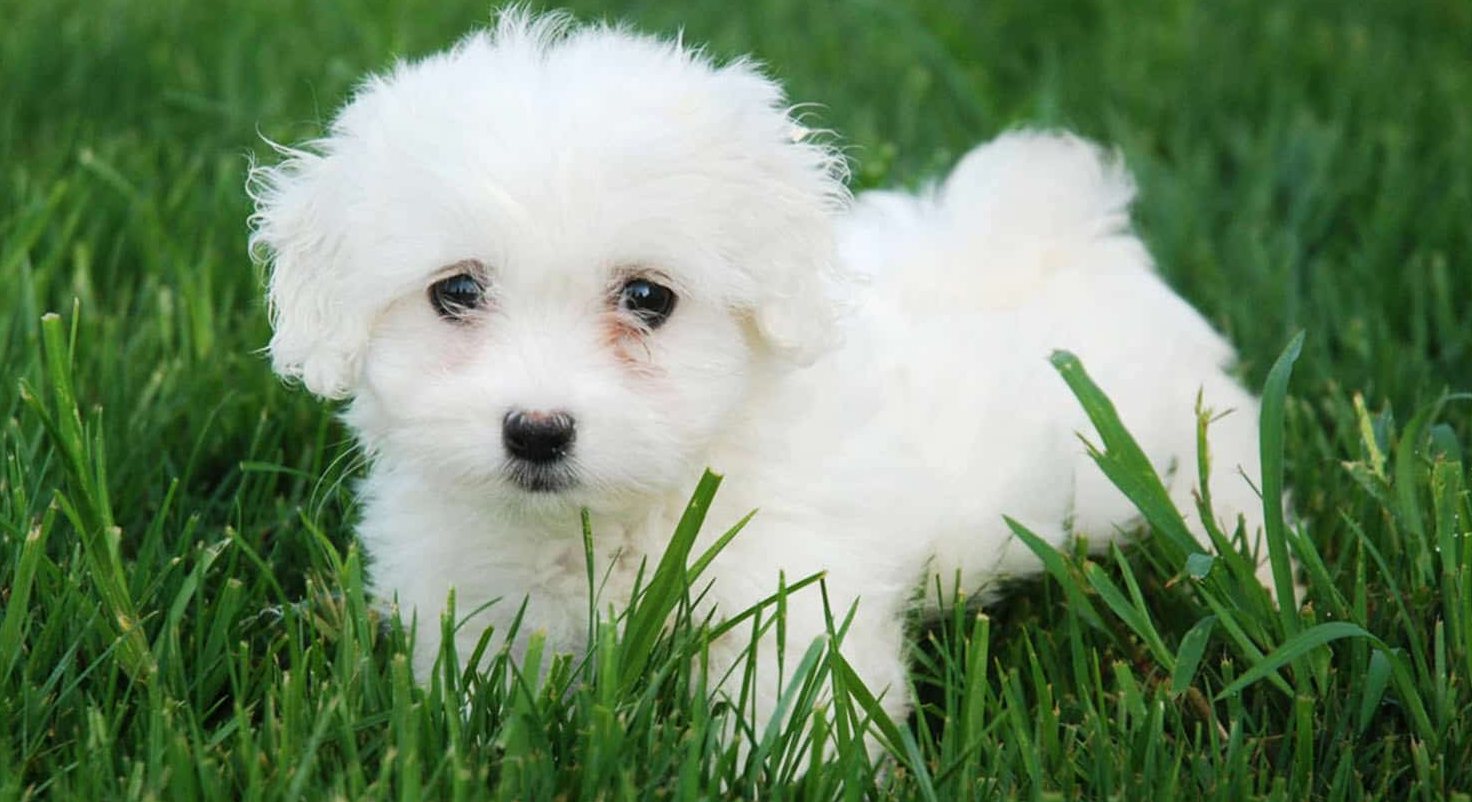perro: (231, 0, 1276, 742)
